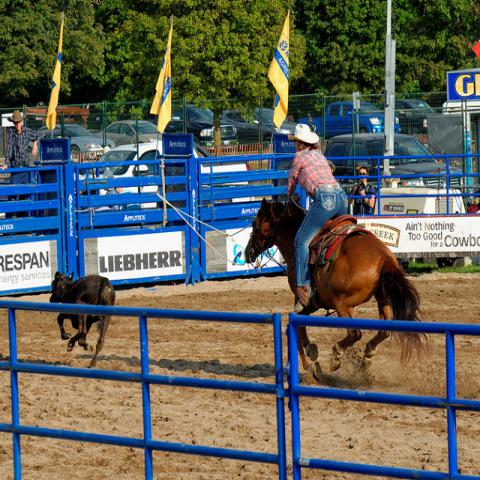car: (324, 132, 462, 178), (222, 108, 301, 142), (186, 105, 238, 144), (92, 120, 159, 147), (65, 124, 114, 151), (397, 99, 434, 116)
truck: (74, 140, 253, 215), (162, 100, 238, 145), (298, 102, 400, 135), (394, 99, 437, 135)
